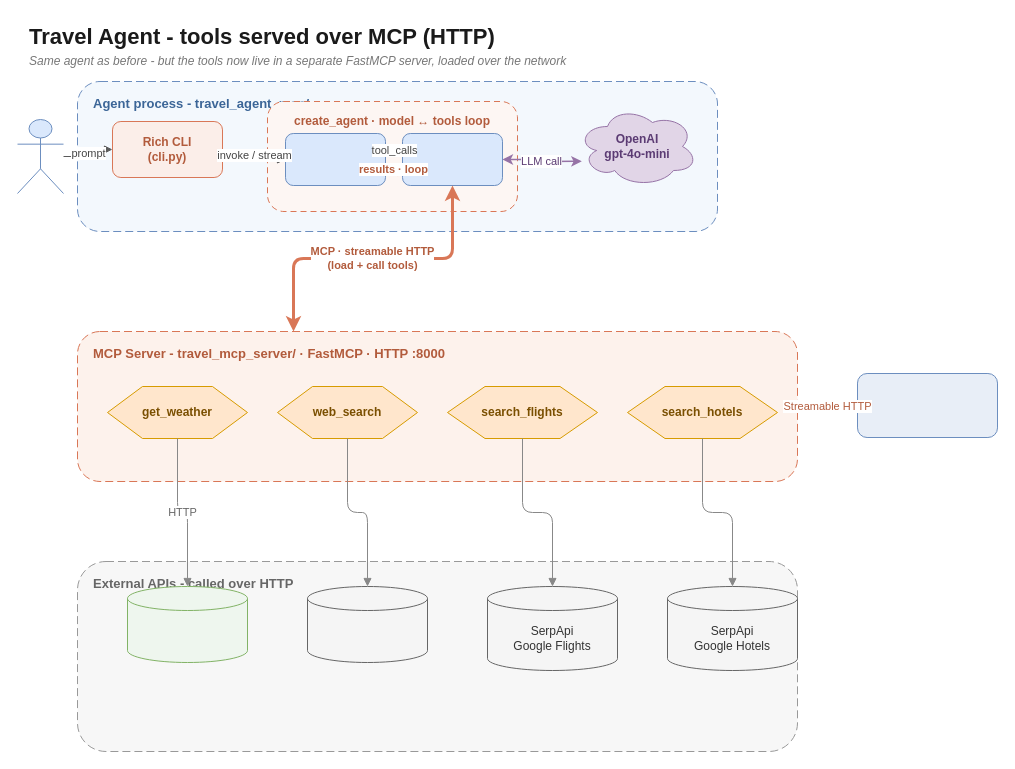
The diagram is 1015 pixels wide and 769 high, and some of its shapes have lost their labels. The centre of each missing label's shape, as x and y in pixels:
"MCP Inspector (npx)" goes at (x=927, y=405).
"model node" goes at (x=335, y=159).
"Open-Meteo (free)" goes at (x=187, y=624).
"Tavily" goes at (x=367, y=624).
"tools node" goes at (x=452, y=159).
"User" goes at (x=40, y=156).
